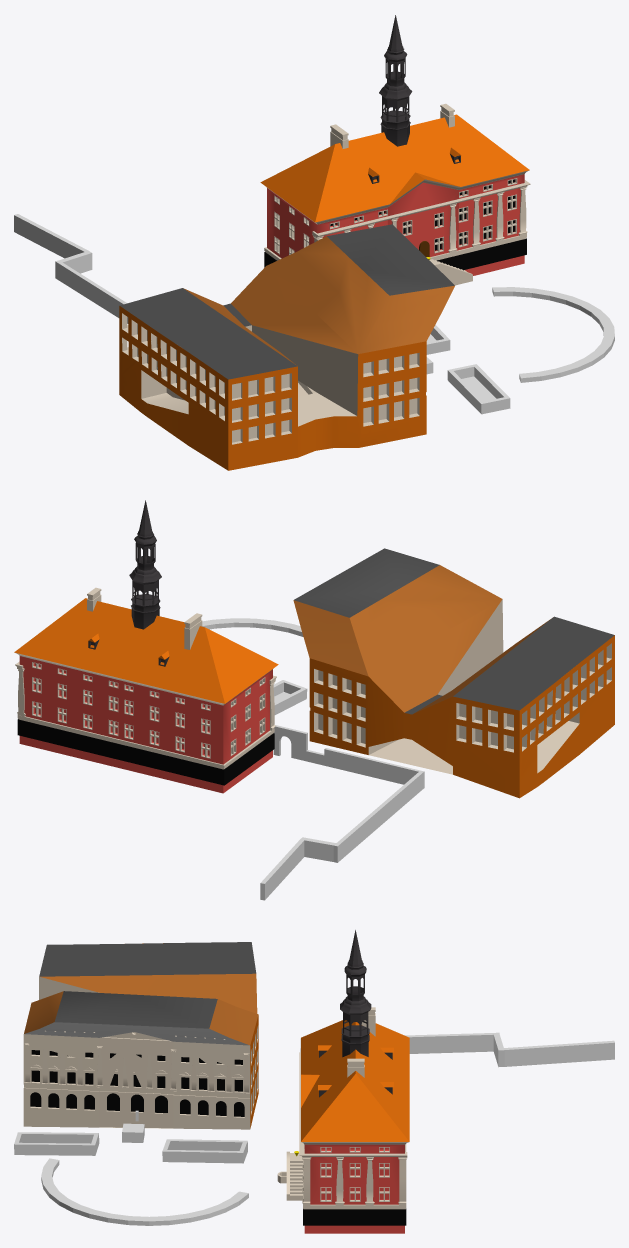
File: raekoda.fbx
3 views of the same model, one above another, from view 1: azimuth 30°, elevation 25°; view 2: azimuth 150°, elevation 25°; view 3: azimuth 270°, elevation 25° (orthographic).
Visible parts, largest first — view 1: Kollege_Main, Raekoda_Main, Circle.003, Circle, Circle.002, Raekoda_Lower_Part, Cube, Windows_L.001, Column_FrontR, Cube.001; view 2: Kollege_Main, Raekoda_Main, Circle.003, Raekoda_Lower_Part, Circle, Windows_L.002, Windows_L.003, Circle.002, Cube.007, Windows_L.005; view 3: Kollege_Main, Raekoda_Main, Circle.003, Plane.001, Circle.002, Circle, Raekoda_Lower_Part, Cube.007, Cube, Cube.004, Column_RightSide, Windows_L.004 (+2 smaller).
Part boxes in pixels (x1,y1,x2,y2): Kollege_Main: [119, 224, 454, 470]; Raekoda_Main: [260, 114, 529, 275]; Circle.003: [14, 214, 128, 323]; Circle: [379, 15, 412, 146]; Circle.002: [492, 287, 614, 382]; Raekoda_Lower_Part: [264, 234, 526, 270]; Cube: [447, 364, 510, 414]; Windows_L.001: [434, 194, 516, 253]; Column_FrontR: [448, 192, 504, 252]; Cube.001: [312, 180, 530, 237]; Kollege_Main: [293, 548, 614, 798]; Raekoda_Main: [14, 598, 278, 793]; Circle.003: [260, 725, 424, 900]; Raekoda_Lower_Part: [17, 715, 274, 785]; Circle: [129, 500, 161, 629]; Windows_L.002: [32, 677, 118, 736]; Windows_L.003: [124, 699, 210, 758]; Circle.002: [202, 618, 303, 636]; Cube.007: [273, 680, 307, 714]; Windows_L.005: [230, 693, 265, 756]; Kollege_Main: [23, 942, 258, 1129]; Raekoda_Main: [301, 1020, 409, 1233]; Circle.003: [300, 1032, 614, 1067]; Plane.001: [30, 1050, 244, 1116]; Circle.002: [41, 1158, 248, 1225]; Circle: [340, 930, 371, 1057]; Raekoda_Lower_Part: [303, 1144, 406, 1225]; Cube.007: [162, 1139, 247, 1163]; Cube: [14, 1132, 99, 1155]; Cube.004: [277, 1151, 302, 1200]; Column_RightSide: [335, 1157, 374, 1205]; Windows_L.004: [320, 1163, 389, 1201].
Size of the model in its own units: 8688 by 5084 by 10448.
